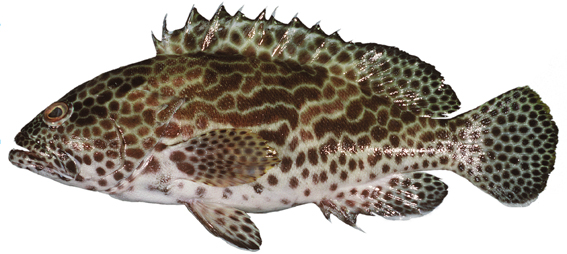fish: (8, 1, 559, 252)
